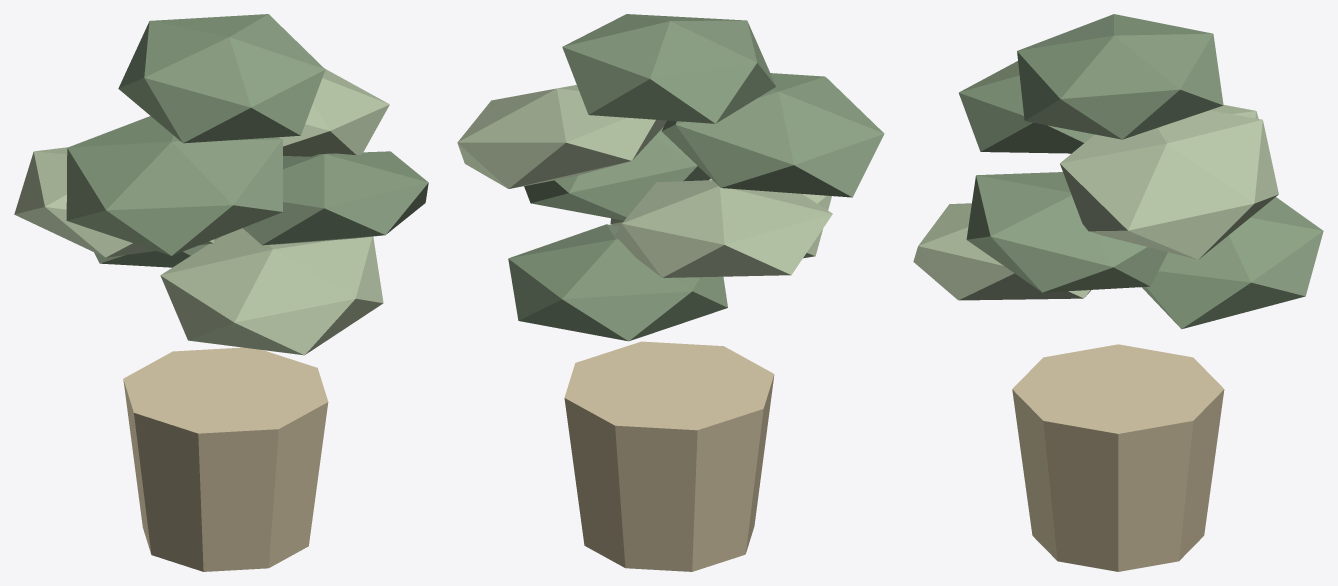
Rendered from plant_monstera.glb.
3 renders of one model, left to right at view 1: azimuth 30°, elevation 25°; view 2: azimuth 150°, elevation 25°; view 3: azimuth 270°, elevation 25°, orthographic. The views are drawn at different scales.
Visible parts, largest first — view 1: plant_monstera; view 2: plant_monstera; view 3: plant_monstera.
Boxes of the visible parts, x1,y1,x2,y2 form: plant_monstera: (14, 14, 428, 571); plant_monstera: (457, 14, 884, 571); plant_monstera: (913, 14, 1323, 571).
Bounding box in the file's own units: 0.7751 × 1.09 × 0.812.
